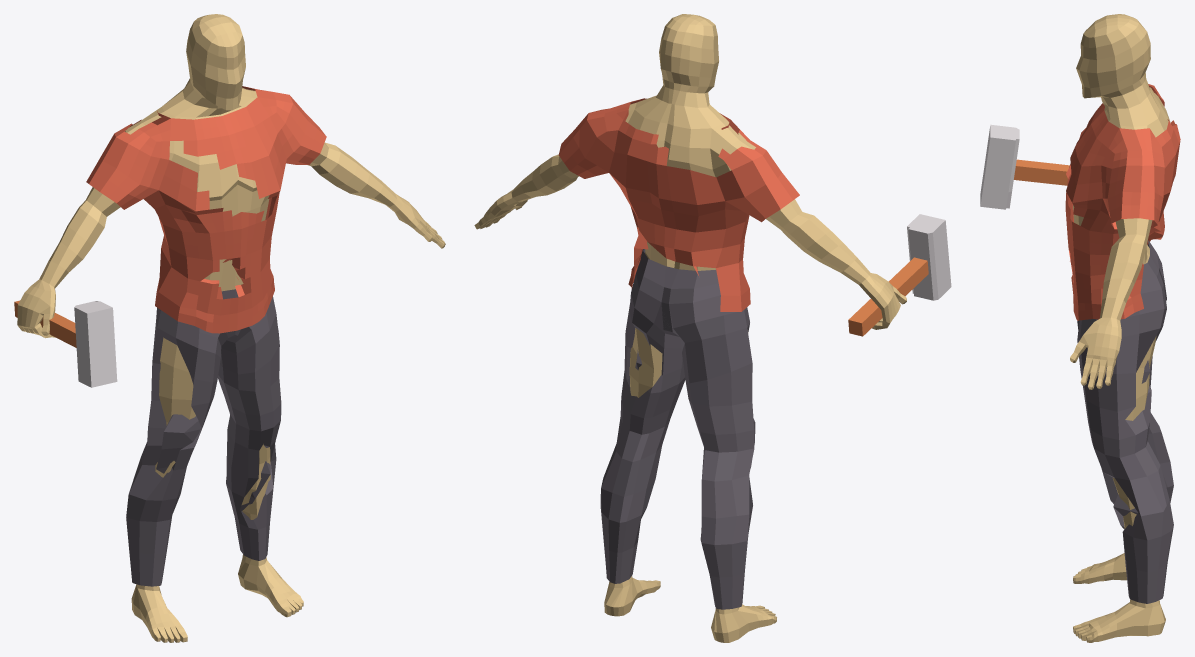
Rendered from строитель.fbx.
The picture shows the model from 3 angles, left to right: view 1: azimuth 30°, elevation 25°; view 2: azimuth 150°, elevation 25°; view 3: azimuth 270°, elevation 25°; orthographic projection.
Visible parts, largest first — view 1: Body.001, Body, Body.002, Cube.005, Cube.001; view 2: Body.002, Body, Body.001, Cube.005, Cube.001; view 3: Body, Body.002, Body.001, Cube.005, Cube.001.
Boxes of the visible parts, <box> form: Body.001: <box>86,86,326,333</box>; Body: <box>17,14,445,642</box>; Body.002: <box>126,289,281,586</box>; Cube.005: <box>74,301,117,387</box>; Cube.001: <box>14,300,76,347</box>; Body.002: <box>600,249,755,609</box>; Body: <box>474,14,906,642</box>; Body.001: <box>558,98,799,311</box>; Cube.005: <box>907,214,951,300</box>; Cube.001: <box>848,257,928,336</box>; Body: <box>1070,14,1170,642</box>; Body.002: <box>1077,240,1173,603</box>; Body.001: <box>1065,84,1180,320</box>; Cube.005: <box>980,124,1019,209</box>; Cube.001: <box>1014,159,1069,185</box>.
Size of the model in its own units: 135 by 184 by 56.56.
